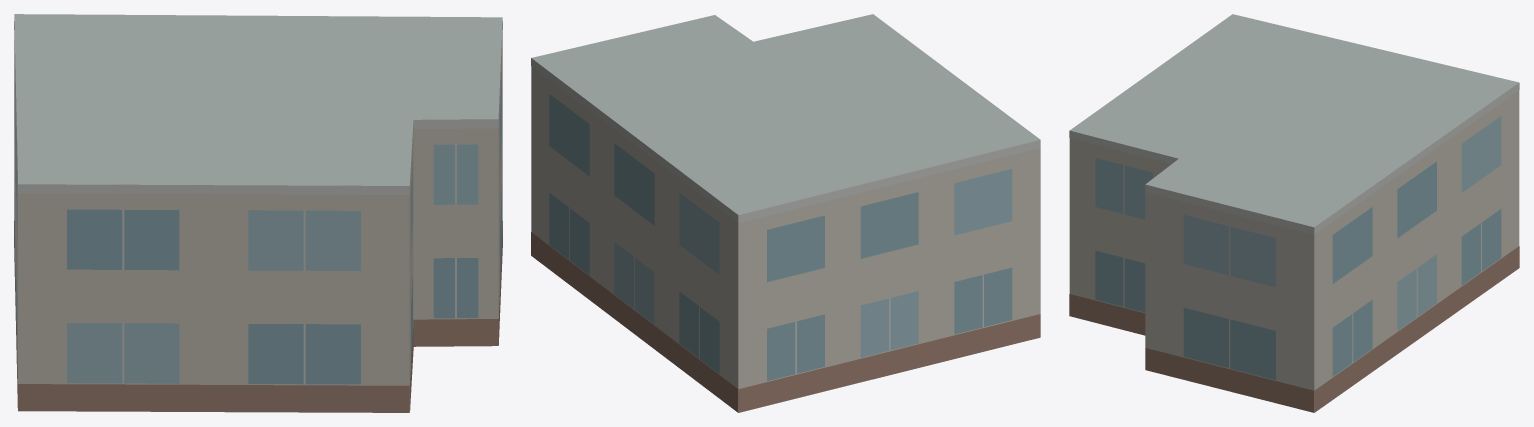
The model's file is survey-upis-32775892.glb.
3 renders of one model, left to right at view 1: azimuth 30°, elevation 25°; view 2: azimuth 150°, elevation 25°; view 3: azimuth 270°, elevation 25°, orthographic. The views are drawn at different scales.
Visible parts, largest first — view 1: survey-upis-32775892.tmp; view 2: survey-upis-32775892.tmp; view 3: survey-upis-32775892.tmp.
Boxes of the visible parts, bbox=[...] form: survey-upis-32775892.tmp: bbox=[14, 14, 502, 412]; survey-upis-32775892.tmp: bbox=[531, 14, 1040, 412]; survey-upis-32775892.tmp: bbox=[1069, 14, 1519, 412].
Size of the model in its own units: 15.05 by 6.1 by 13.42.
